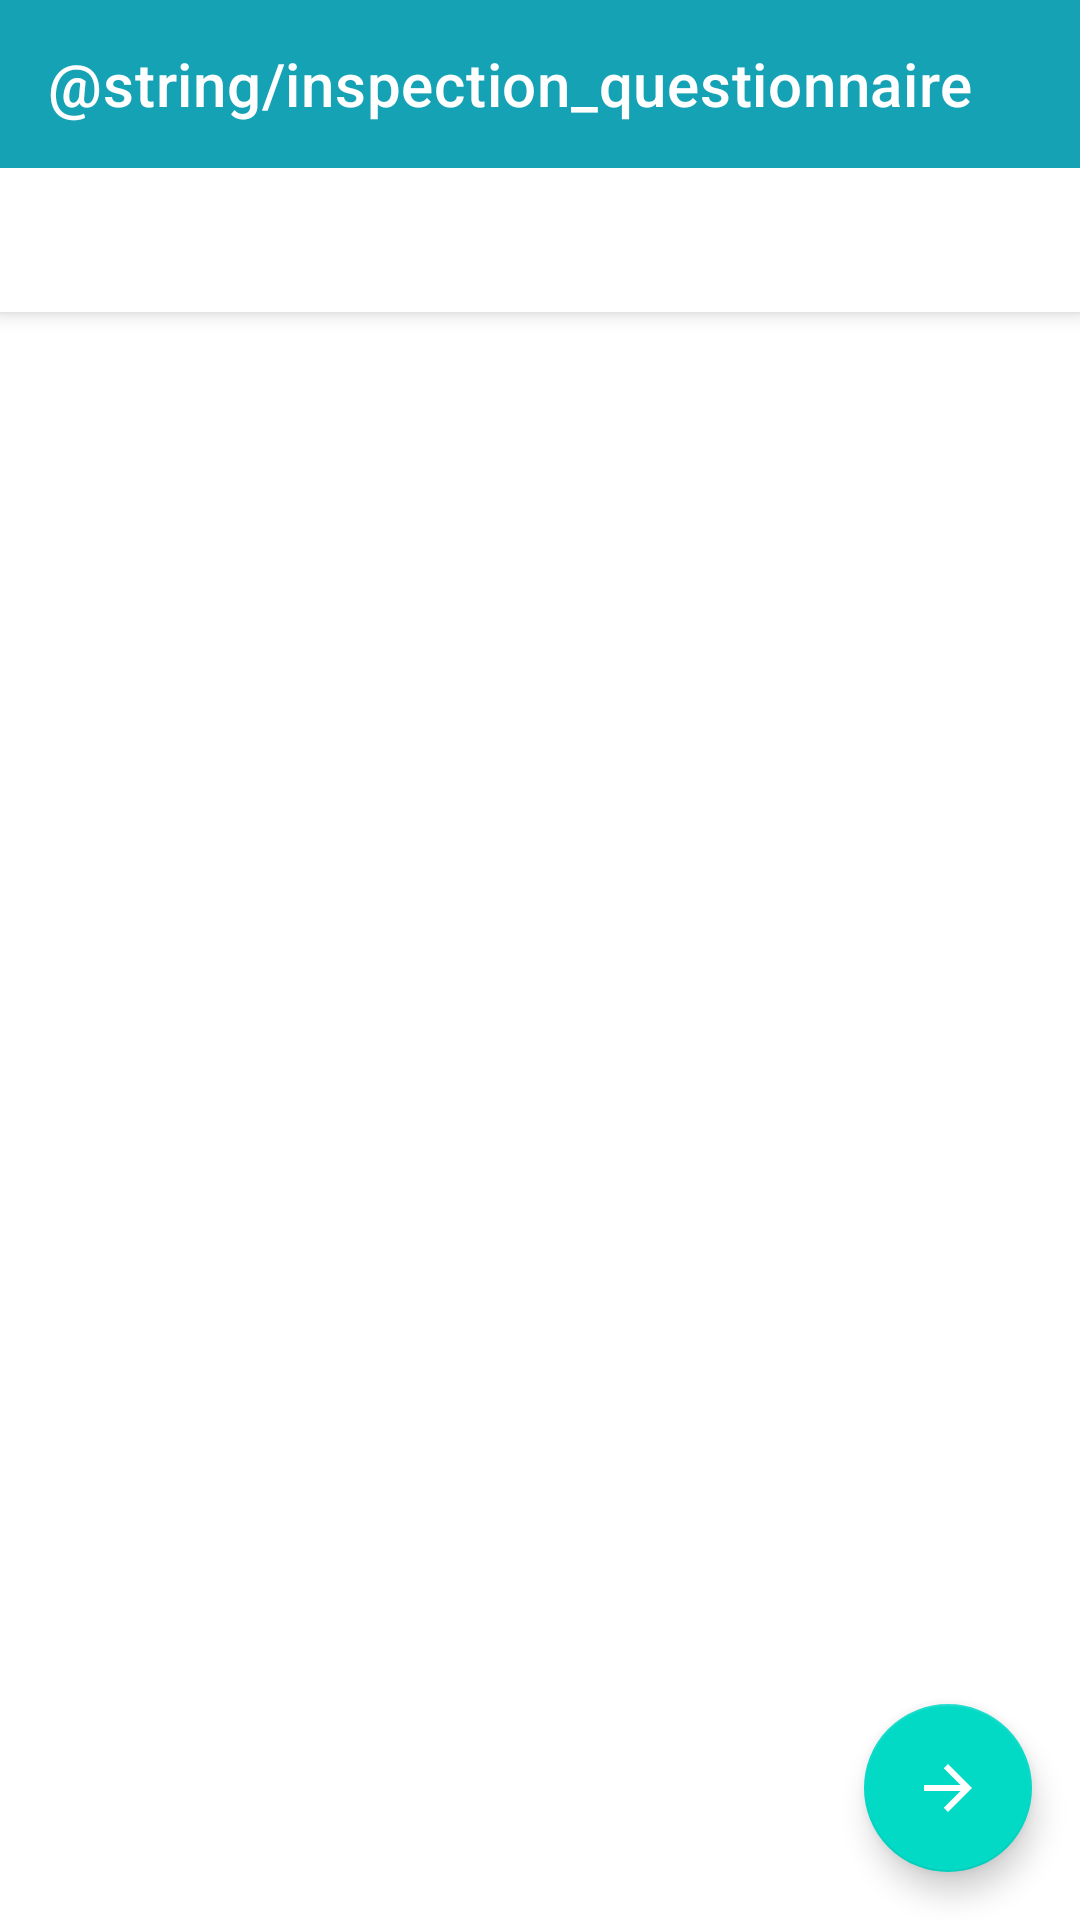

Where icons sit on this 1080x1920 app screen, as (x1, y1, x2, y2):
arrow forward: (864, 1704, 1032, 1872)
